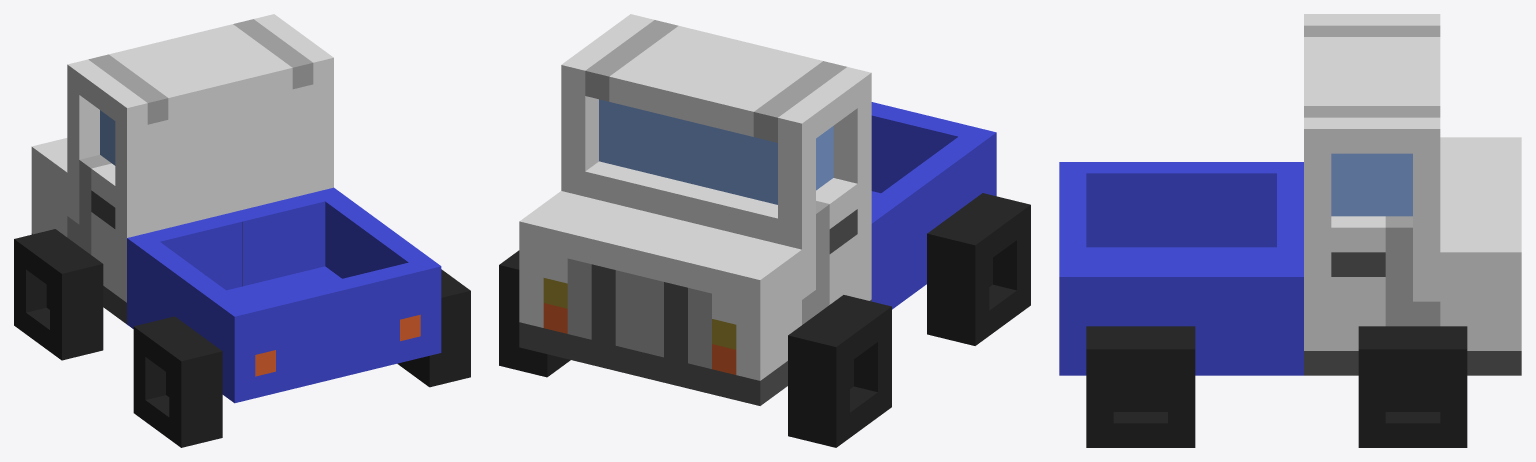
The model's file is truck_0.fbx.
The picture shows the model from 3 angles, left to right: view 1: azimuth 30°, elevation 25°; view 2: azimuth 150°, elevation 25°; view 3: azimuth 270°, elevation 25°; orthographic projection. The views are drawn at different scales.
Parts seen in each view (by area): view 1: Grid.041; view 2: Grid.041; view 3: Grid.041.
Boxes of the visible parts, x1,y1,x2,y2 form: Grid.041: (14, 14, 470, 447); Grid.041: (499, 14, 1030, 447); Grid.041: (1059, 14, 1521, 447).
Size of the model in its own units: 140 by 120 by 170.
